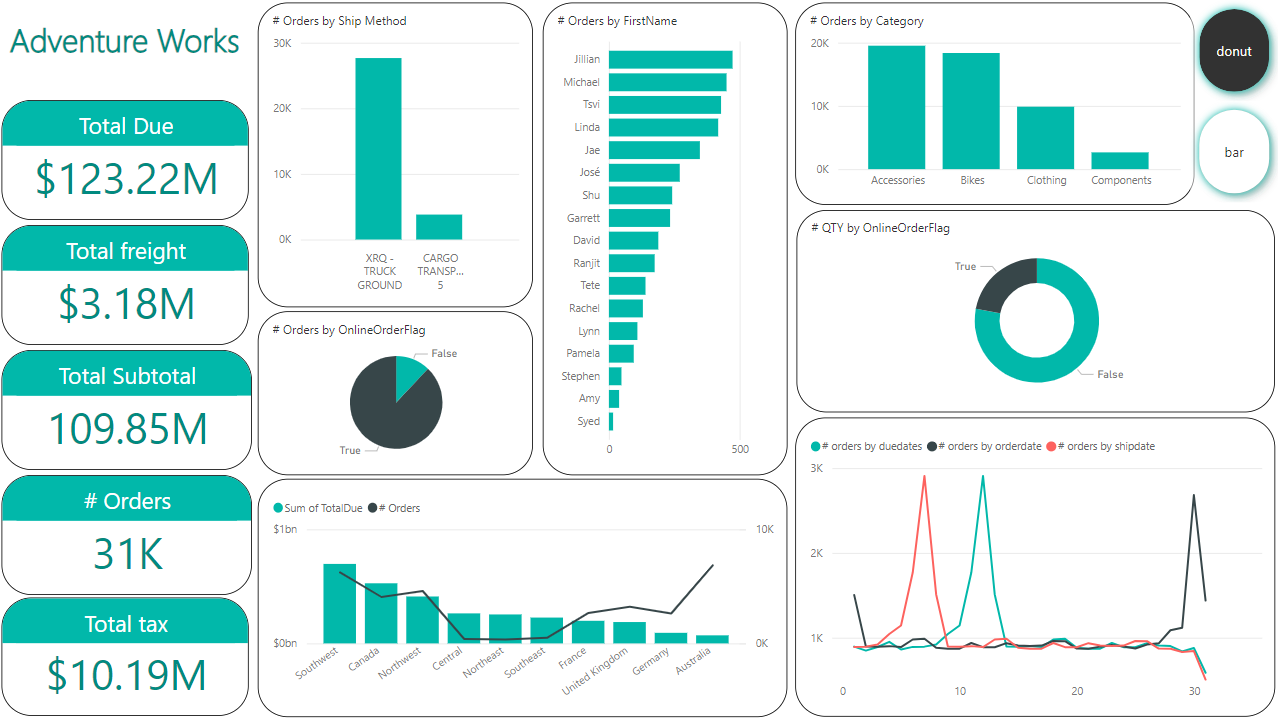

Layout of this report page (visuals, bound fields, positions):
{"tool":"powerbi","page":{"name":"Adventure Works","canvas":[1280,720],"ordinal":0},"visuals":[{"type":"card","title":"Total Due","fields":{"Values":["Dax mesures.total due"]},"box":[2.5,100,247.5,120],"z":0},{"type":"card","title":"Total tax","fields":{"Values":["Dax mesures.total tax"]},"box":[2.5,597.5,247.5,118.8],"z":1000},{"type":"card","title":"Total freight","fields":{"Values":["Dax mesures.total freight"]},"box":[2.5,225,247.5,120],"z":2000},{"type":"card","title":"# Orders","fields":{"Values":["OrderDetails.# Orders"]},"box":[2.5,475,250,120],"z":3000},{"type":"card","title":"Total Subtotal","fields":{"Values":["OrderDetails.total subtotal"]},"box":[2.5,350,250,120],"z":4000},{"type":"lineChart","fields":{"Y":["Dates.# orders by duedates","Dates.# orders by orderdate","Dates.# orders by shipdate"],"Category":["Dates.Day"]},"box":[796,417,480,299.1],"z":5000},{"type":"clusteredColumnChart","fields":{"Category":["Products.Category Hierarchy.Category","Products.Category Hierarchy.Subcategory","Products.Category Hierarchy.Product"],"Y":["OrderDetails.# Orders"]},"box":[796,3,399,202.6],"z":6000},{"type":"pieChart","fields":{"Y":["OrderDetails.# Orders"],"Series":["OrderDetails.OnlineOrderFlag"]},"box":[259.3,311.2,275,164],"z":7000},{"type":"columnChart","fields":{"Category":["ShipMethods.Ship Method"],"Y":["OrderDetails.# Orders"]},"box":[258.8,2.5,275,305],"z":8000},{"type":"donutChart","fields":{"Category":["OrderDetails.OnlineOrderFlag"],"Y":["OrderDetails.# QTY"]},"box":[797.2,209.8,478.8,202.6],"z":9000},{"type":"lineStackedColumnComboChart","fields":{"Category":["Territories.Territory"],"Y":["OrderDetails.TotalDue"],"Y2":["OrderDetails.# Orders"]},"box":[259.3,479,529.4,238.8],"z":10000},{"type":"barChart","fields":{"Y":["OrderDetails.# Orders"],"Category":["Sales vSalesPerson.FirstName"]},"box":[543.8,2.5,245,472.5],"z":11000},{"type":"bookmarkNavigator","box":[1191.6,0,88,202.6],"z":13000},{"type":"textbox","box":[1.2,12.1,248.4,60.3],"z":14000}]}

Visuals, with their boxes in screenshot pixels (x1, y1, x2, y2), scaled from the page's 1280x720 canvas onto the 1278x718 screenshot:
"Total Due" card: <region>2, 100, 250, 219</region>
"Total tax" card: <region>2, 596, 250, 714</region>
"Total freight" card: <region>2, 224, 250, 344</region>
"# Orders" card: <region>2, 474, 252, 593</region>
"Total Subtotal" card: <region>2, 349, 252, 469</region>
lineChart - Dates.# orders by duedates x Dates.# orders by orderdate: <region>795, 416, 1274, 714</region>
clusteredColumnChart - Products.Category Hierarchy.Category x Products.Category Hierarchy.Subcategory: <region>795, 3, 1193, 205</region>
pieChart - OrderDetails.# Orders x OrderDetails.OnlineOrderFlag: <region>259, 310, 533, 474</region>
columnChart - ShipMethods.Ship Method x OrderDetails.# Orders: <region>258, 2, 533, 307</region>
donutChart - OrderDetails.OnlineOrderFlag x OrderDetails.# QTY: <region>796, 209, 1274, 411</region>
lineStackedColumnComboChart - Territories.Territory x OrderDetails.TotalDue: <region>259, 478, 787, 716</region>
barChart - OrderDetails.# Orders x Sales vSalesPerson.FirstName: <region>543, 2, 788, 474</region>
bookmarkNavigator: <region>1190, 0, 1277, 202</region>
textbox: <region>1, 12, 249, 72</region>
